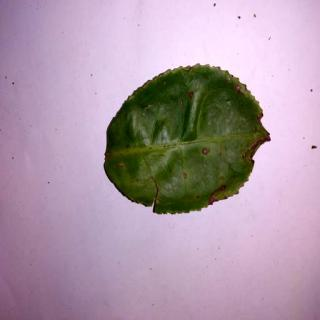Bird Eye Spot: (102, 64, 273, 217)
